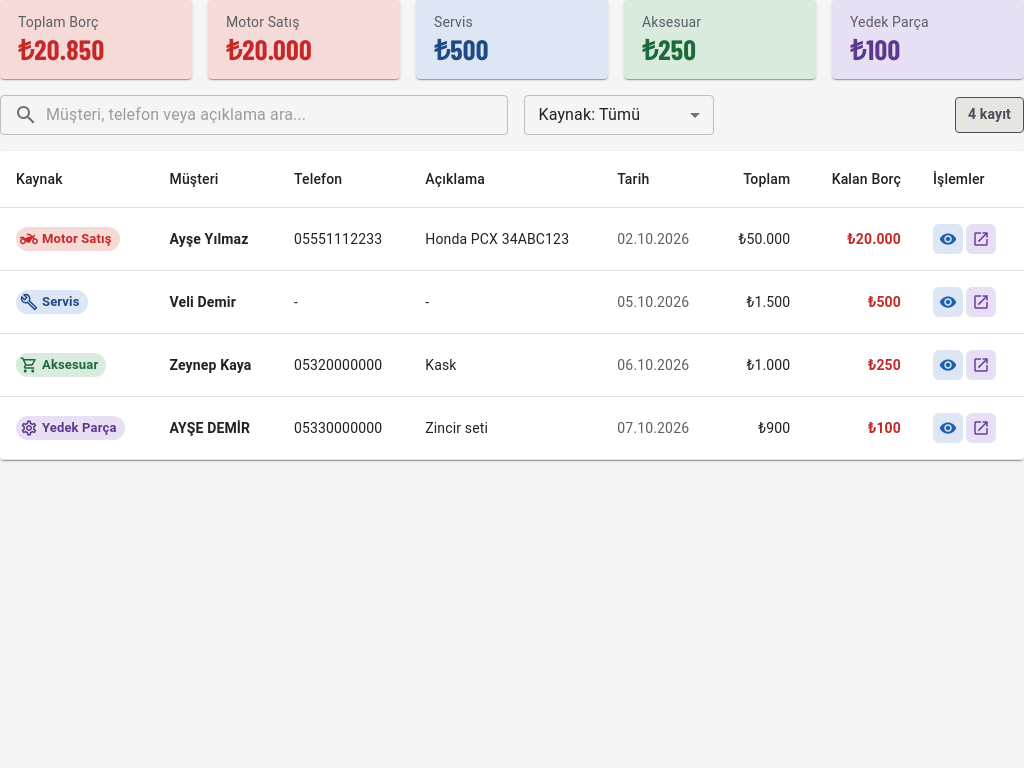
Test: Veresiye: detay penceresi › motor: ödeme durumu (ödenen = toplam - kalan) ve motor bilgileri
Click the button named "Detaylar" in the row of "Ayşe Yılmaz".
click(948, 239)  # box [933,224,963,254]
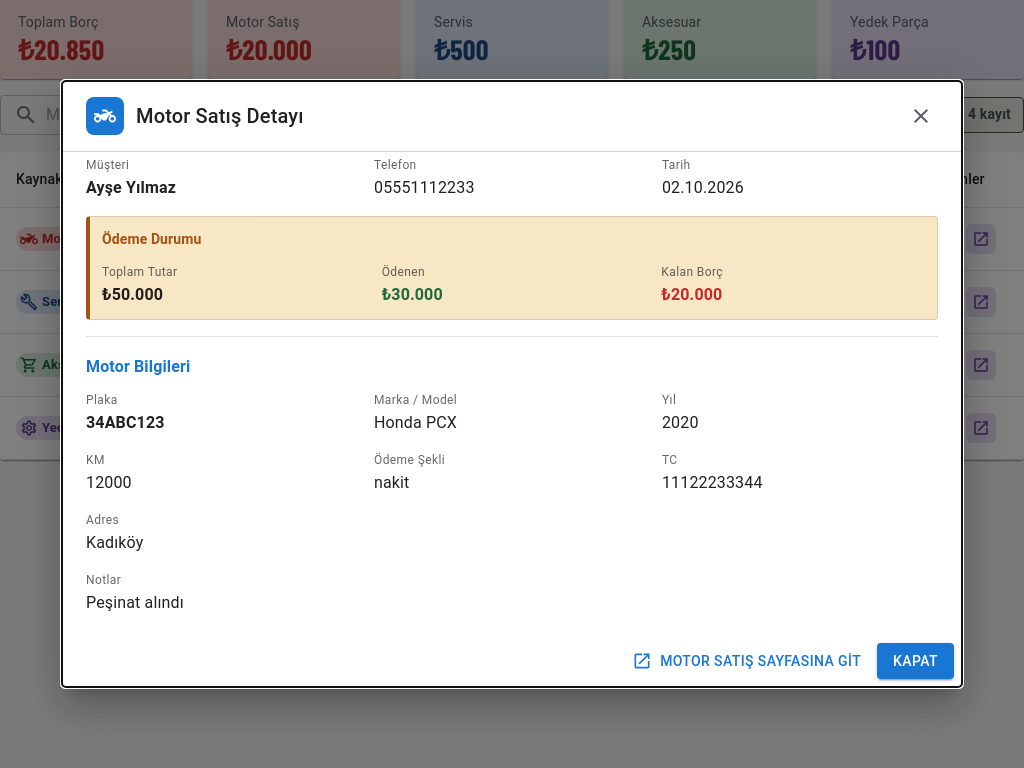
Now the text "Motor Satış Detayı" is shown, box [136,104,304,128]
Now the text "₺50.000" is shown, box [102,285,163,304]
Now the text "₺30.000" is shown, box [382,285,443,304]
